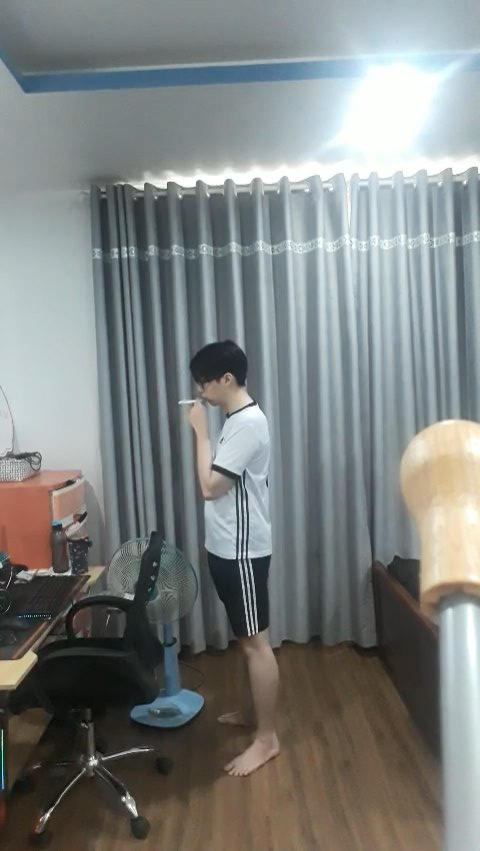person: (165, 334, 308, 787), (179, 398, 197, 405)
